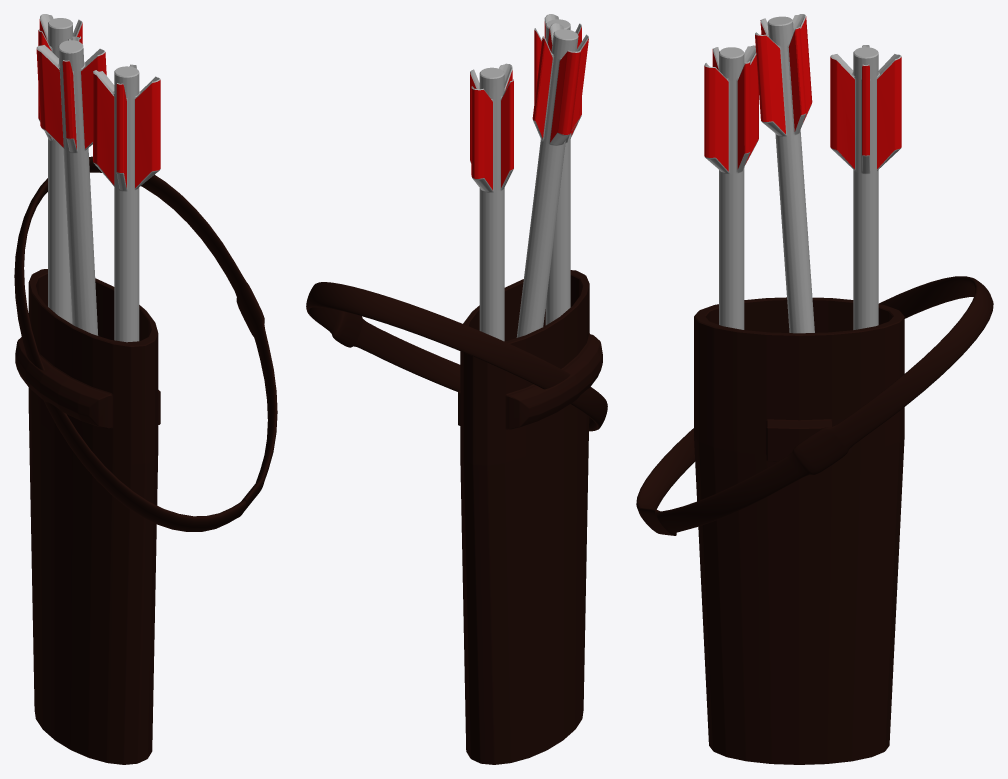
File: quiver.fbx
3 renders of one model, left to right at view 1: azimuth 30°, elevation 25°; view 2: azimuth 150°, elevation 25°; view 3: azimuth 270°, elevation 25°, orthographic.
Parts seen in each view (by area): view 1: Quiver; view 2: Quiver; view 3: Quiver.
Part boxes in pixels (box(x1,y1,x2,y2)): Quiver: box(14, 14, 277, 764); Quiver: box(306, 14, 607, 764); Quiver: box(636, 14, 993, 764).
Size of the model in its own units: 9.44 by 27.82 by 12.67.
